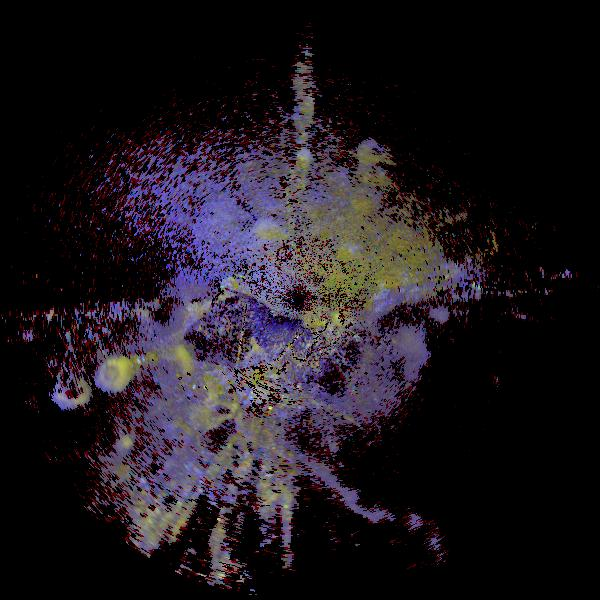roost: (153, 344, 195, 386), (55, 375, 91, 411), (183, 377, 219, 413), (99, 357, 132, 390), (113, 432, 134, 453), (257, 220, 278, 241)
